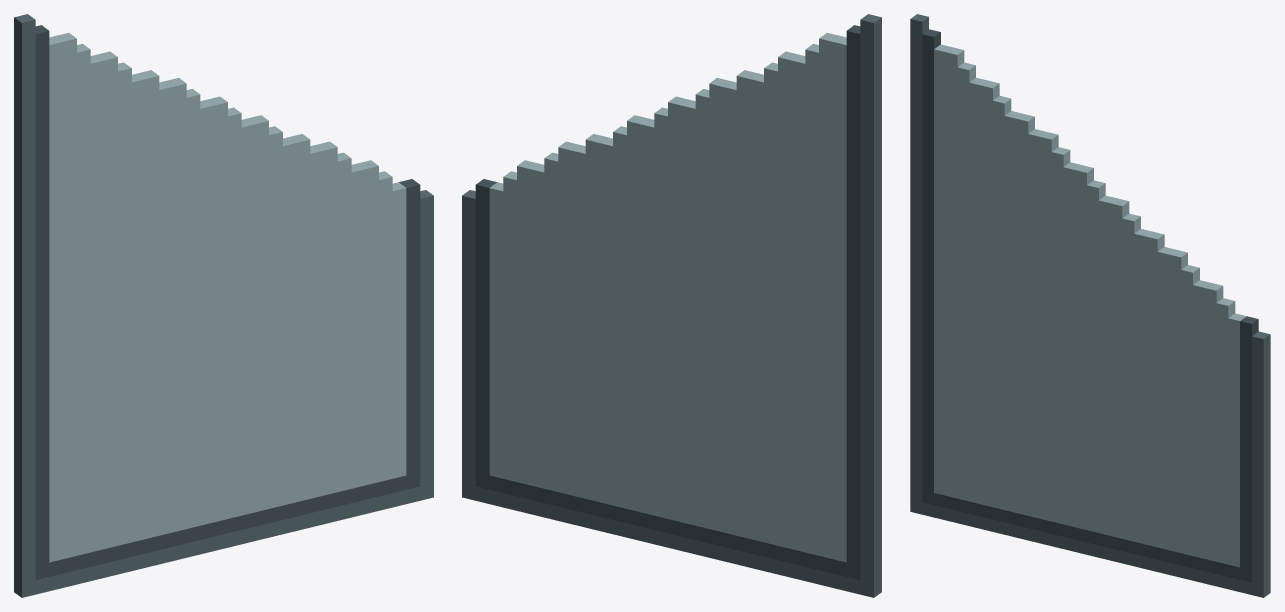
File: MedBayFloorSideBroke.obj
The picture shows the model from 3 angles, left to right: view 1: azimuth 30°, elevation 25°; view 2: azimuth 150°, elevation 25°; view 3: azimuth 330°, elevation 25°; orthographic projection. The views are drawn at different scales.
Bounding box in the file's own units: 3 × 4 × 0.1.
Materials: 1 (1 with a texture image).
